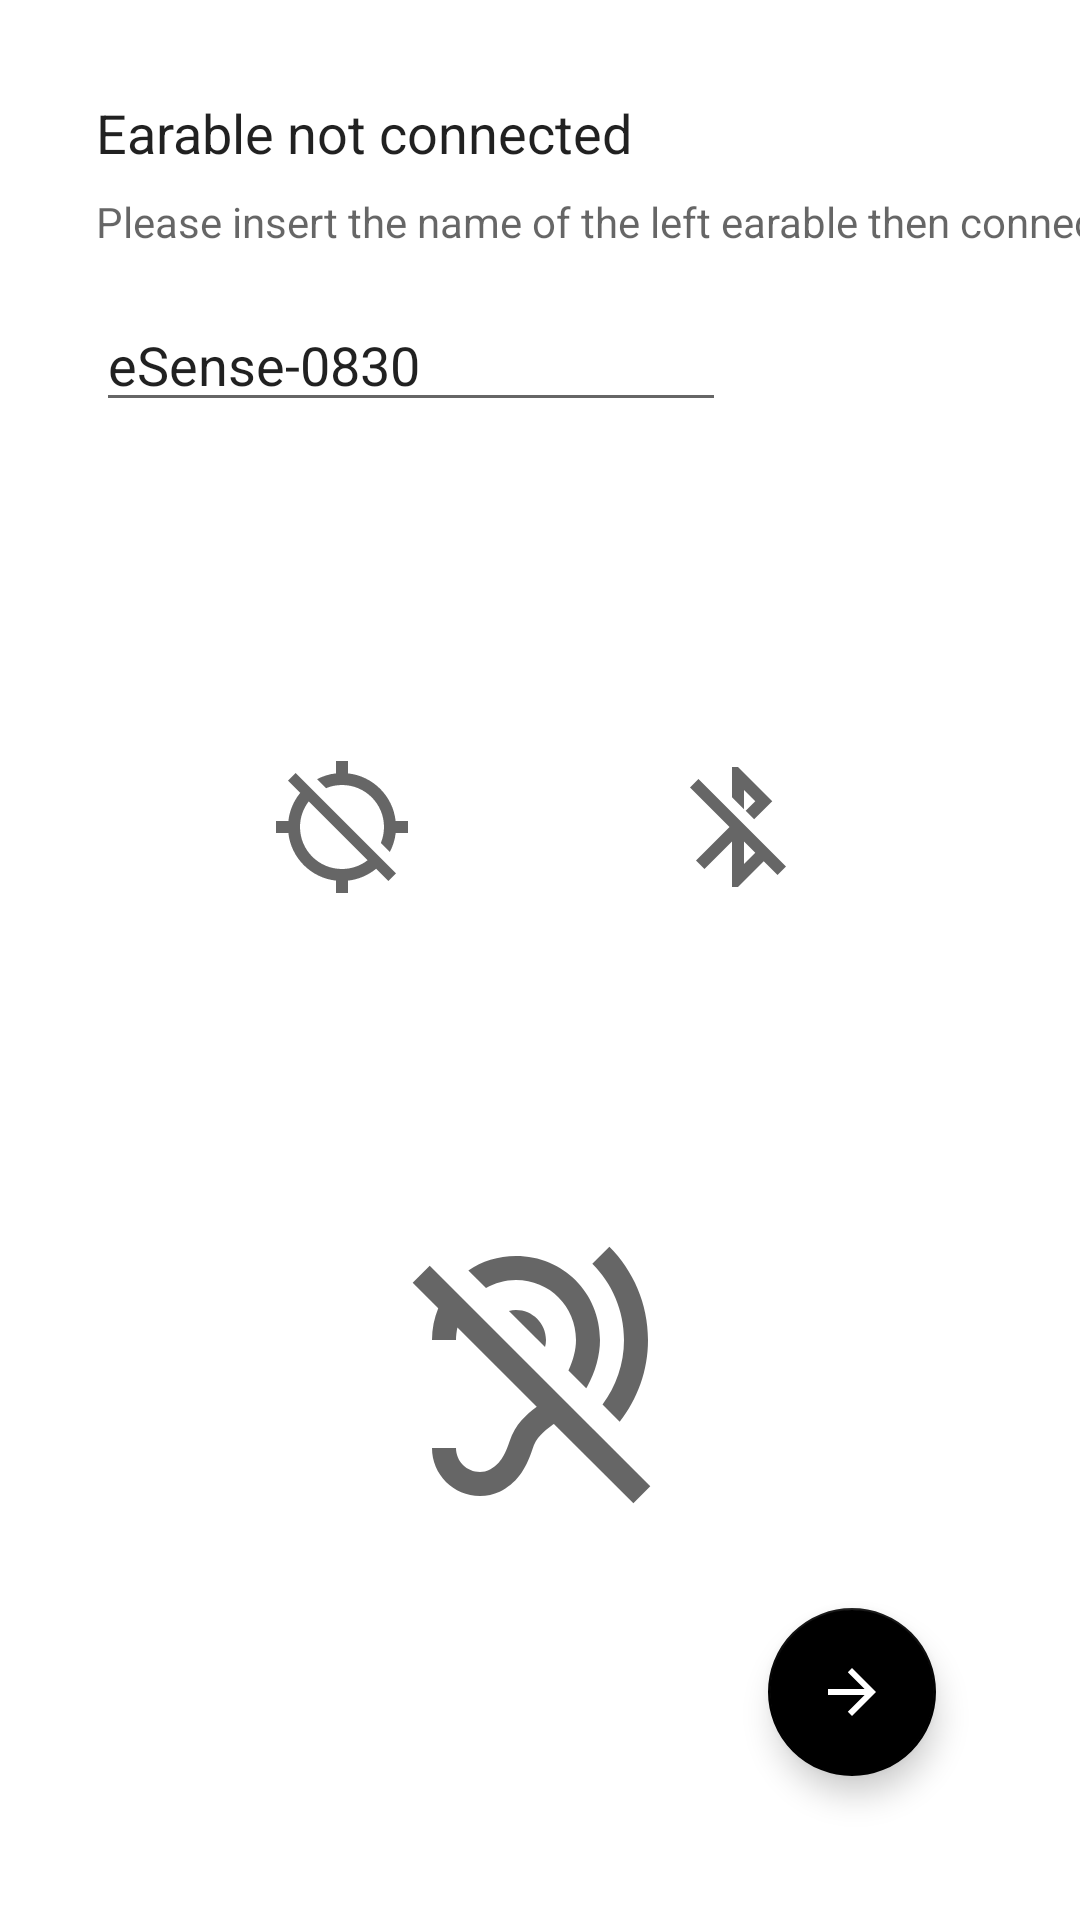

Point at icon controls on the screen. Image size 1080×1920, points as point (x, y).
gps off: point (342, 827)
hearing: point (531, 1375)
